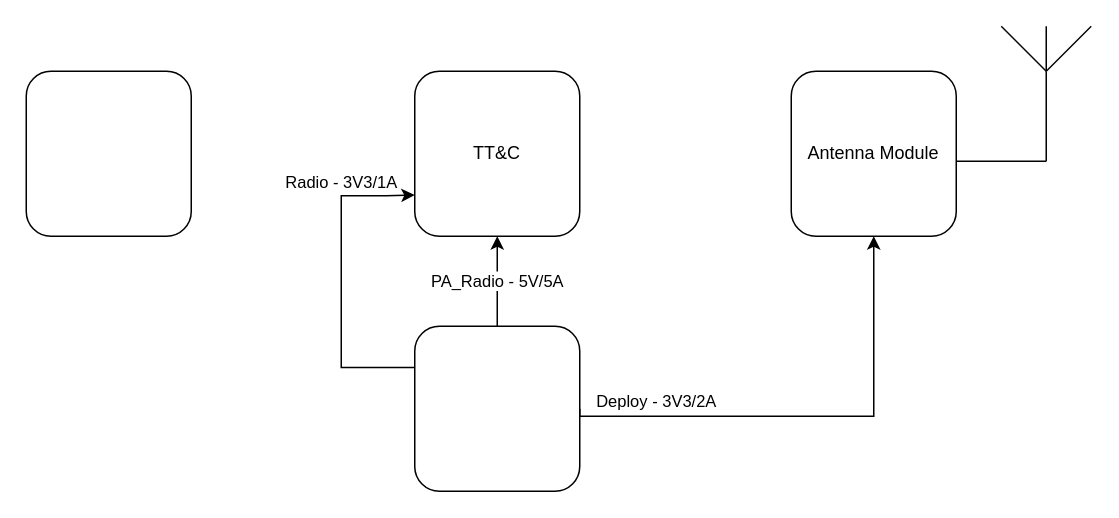
This 1119x518 diagram has some shape labels left out. The shapes that lost their labels are listed below. From the top down, each one's box as (x1, y1, x2, y2) in pixels, then its label:
(25, 70, 191, 236): Raspberry(CM3+)
(413, 325, 580, 491): EPS
